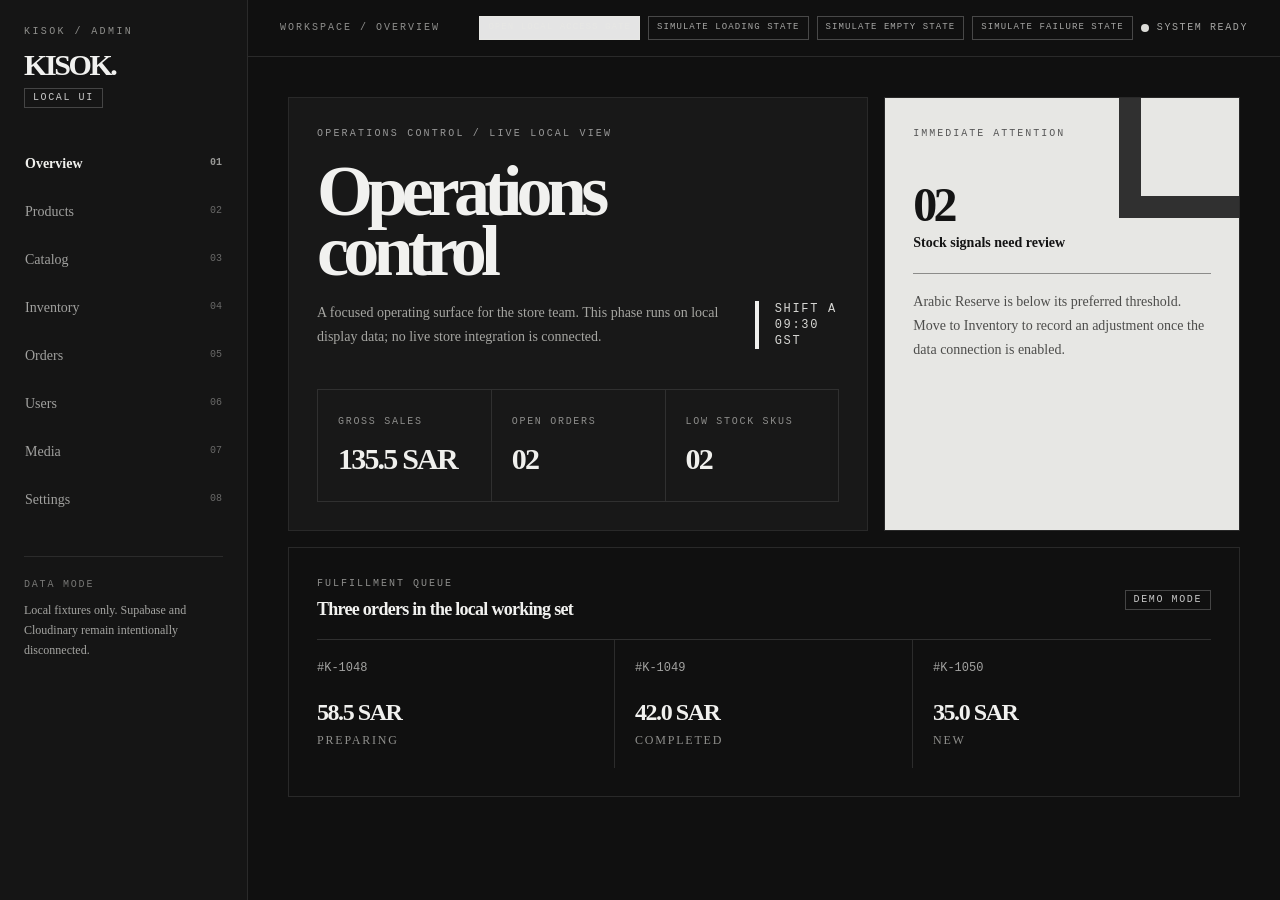
Test: KisokAdminConsole › reports local action buffers for catalog, users, and media
The width and height of the screenshot is (1280, 900).
What coordinates should you click on to do the following:
click the button "Catalog 03"
I would click on:
 (124, 260)
Its box is [24,236,223,284].
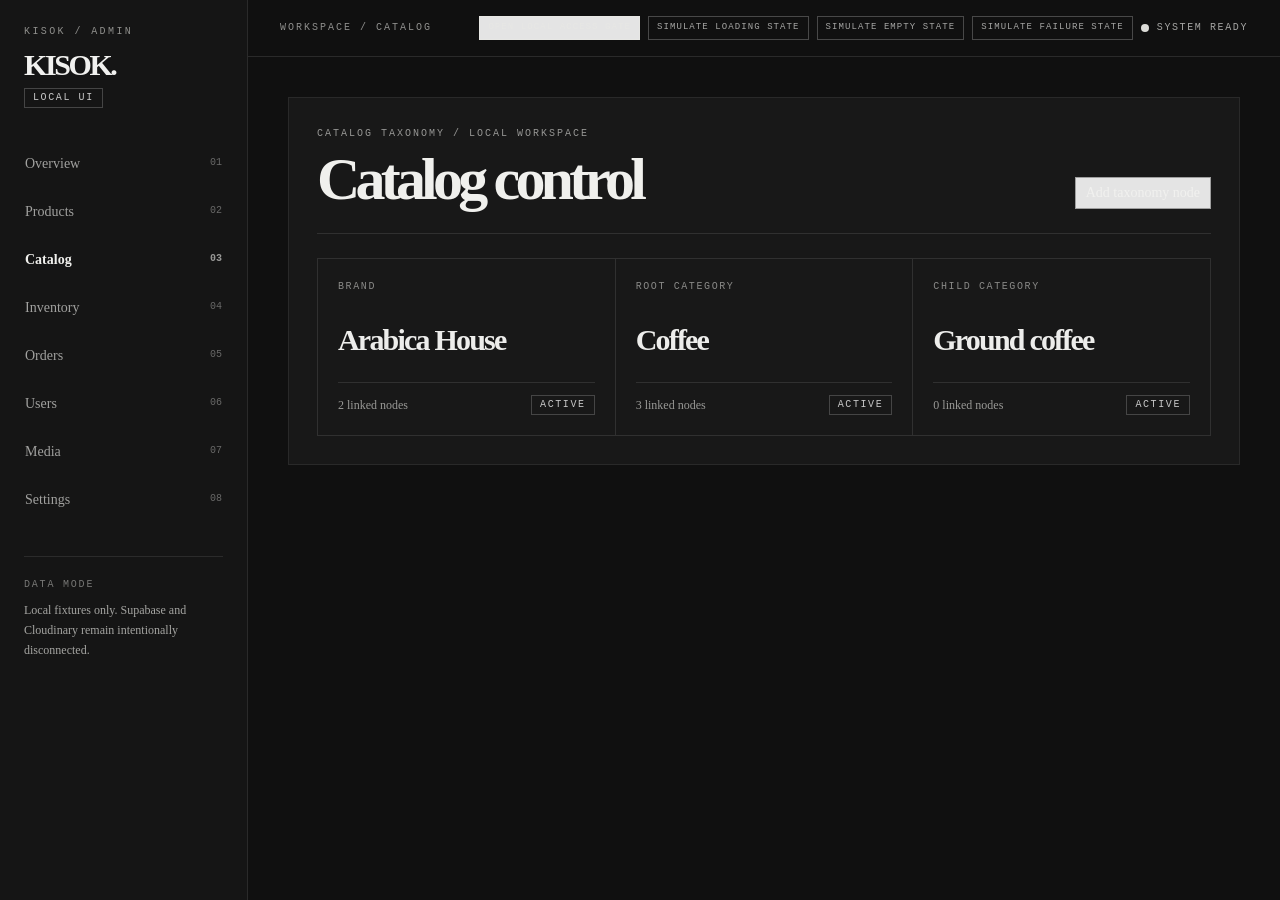
What coordinates should you click on to do the following:
click the button "Add taxonomy node"
I would click on:
 (1143, 192)
Its box is [1075,176,1211,208].
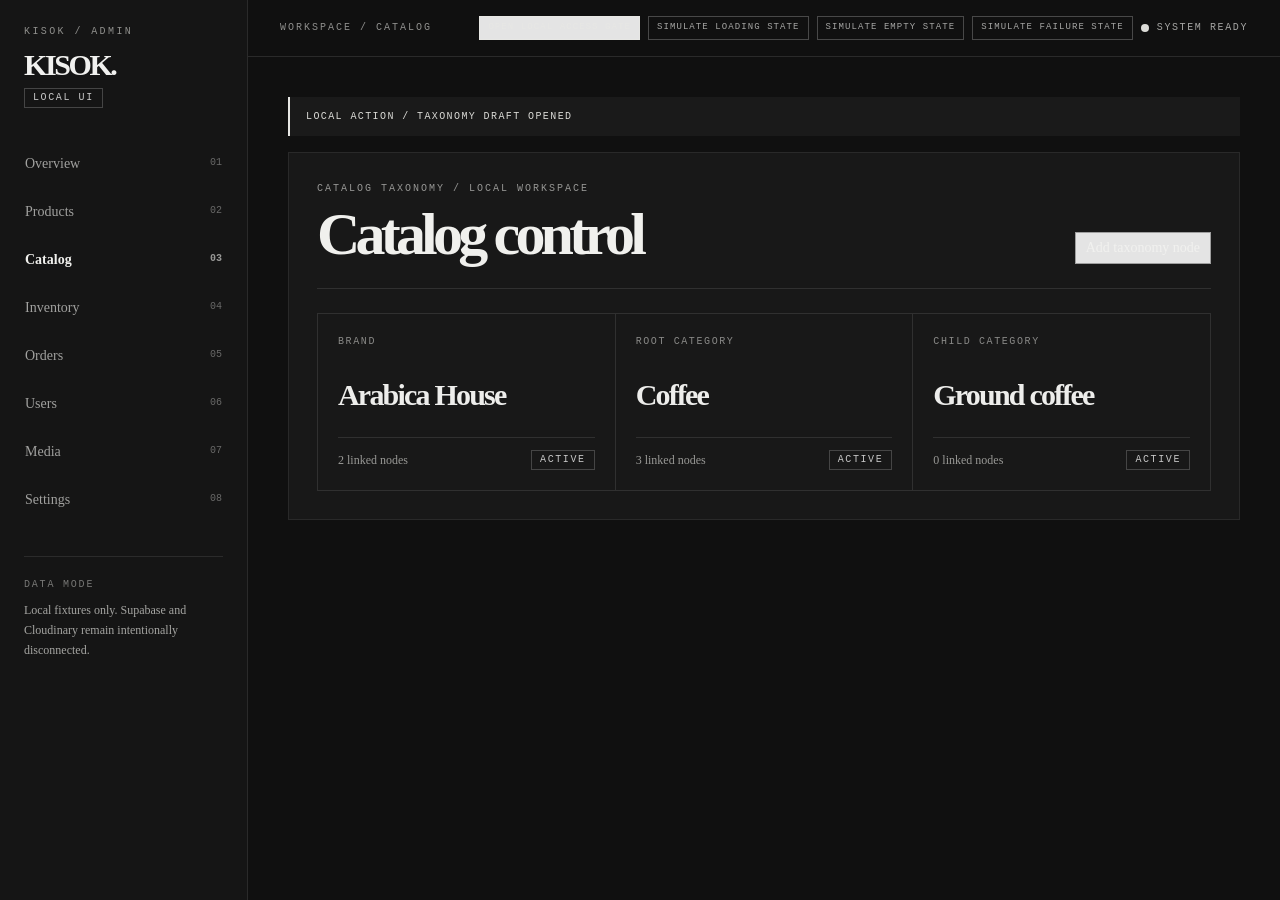
Result: the message shows "Taxonomy draft opened" at [417,110,572,122]
What coordinates should you click on to do the following:
click the button "Users 06"
I would click on:
 (124, 404)
Its box is [24,380,223,428].
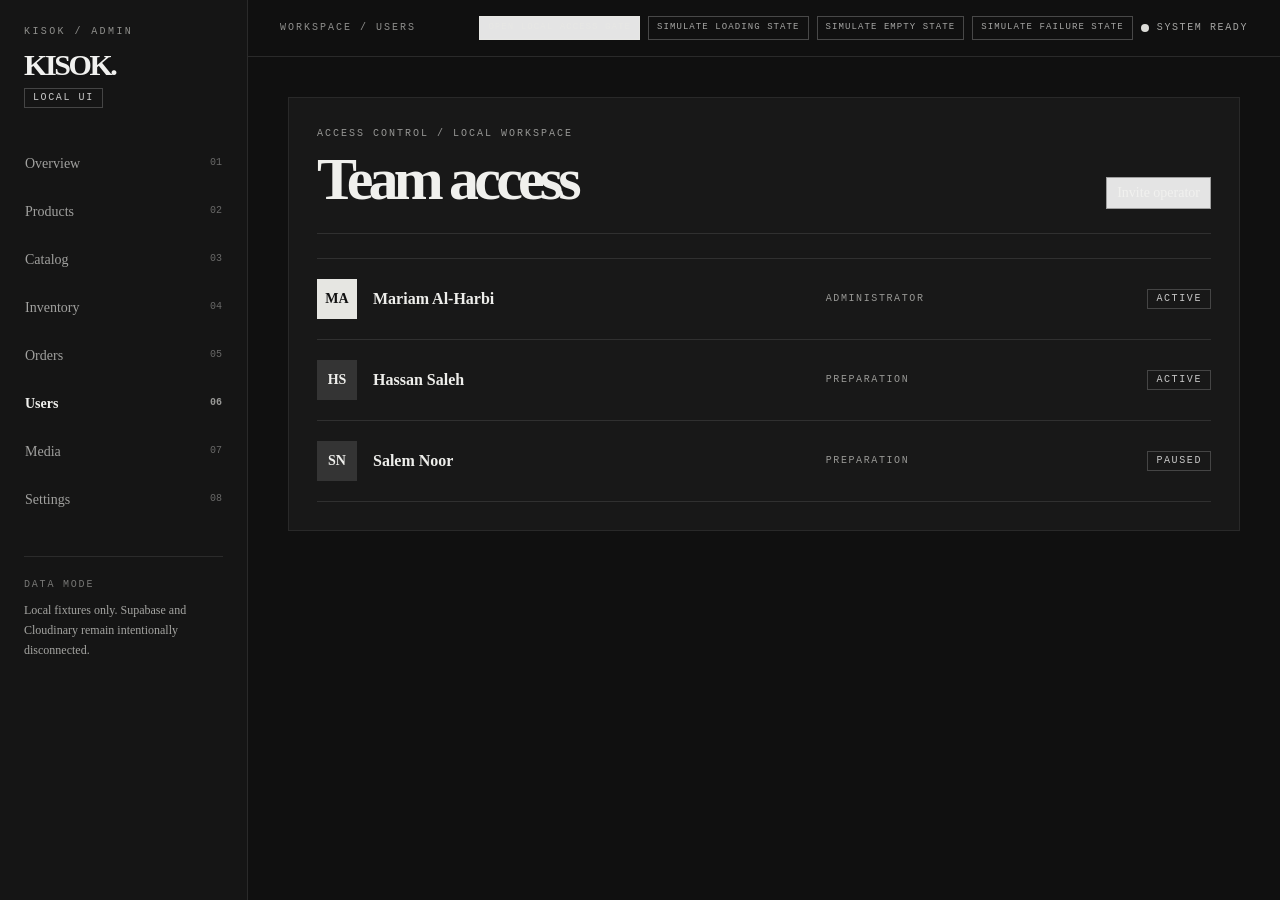
What coordinates should you click on to do the following:
click the button "Invite operator"
I would click on:
 (1159, 192)
Its box is [1106,176,1211,208].
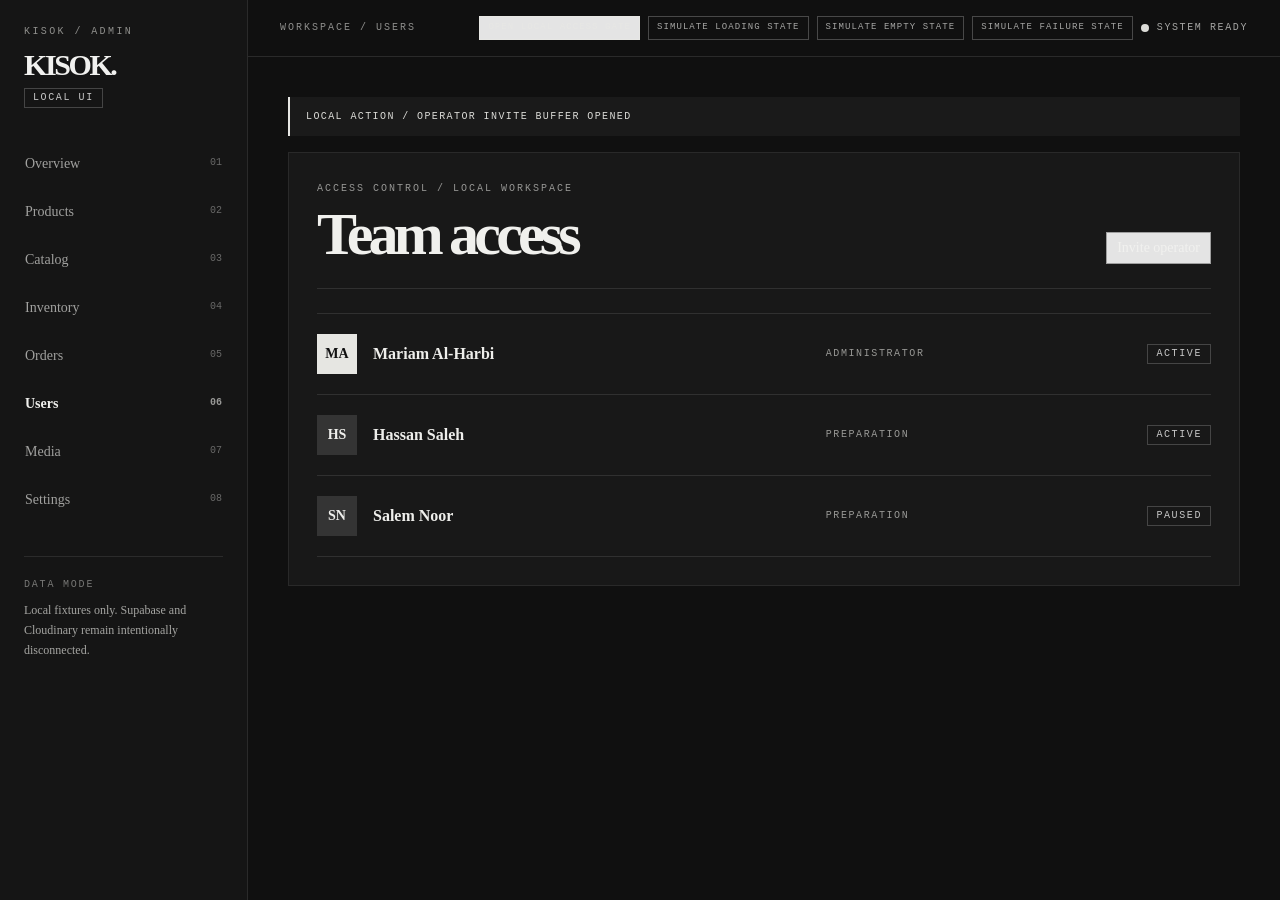
Result: the message shows "Operator invite buffer opened" at [417,110,632,122]
What coordinates should you click on to do the following:
click the button "Media 07"
I would click on:
 (124, 452)
Its box is [24,428,223,476].
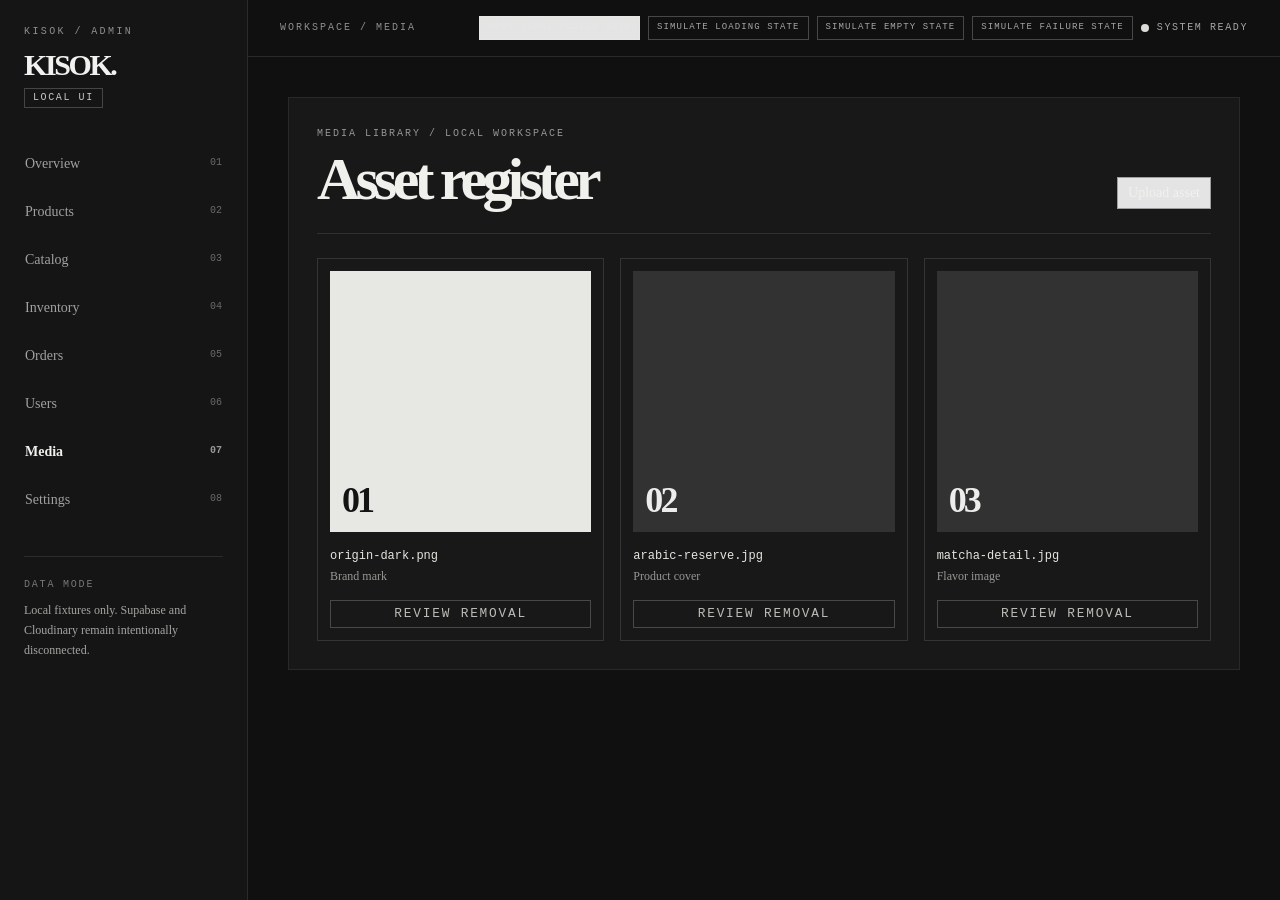
What coordinates should you click on to do the following:
click the button "Upload asset"
I would click on:
 (1164, 192)
Its box is [1117,176,1211,208].
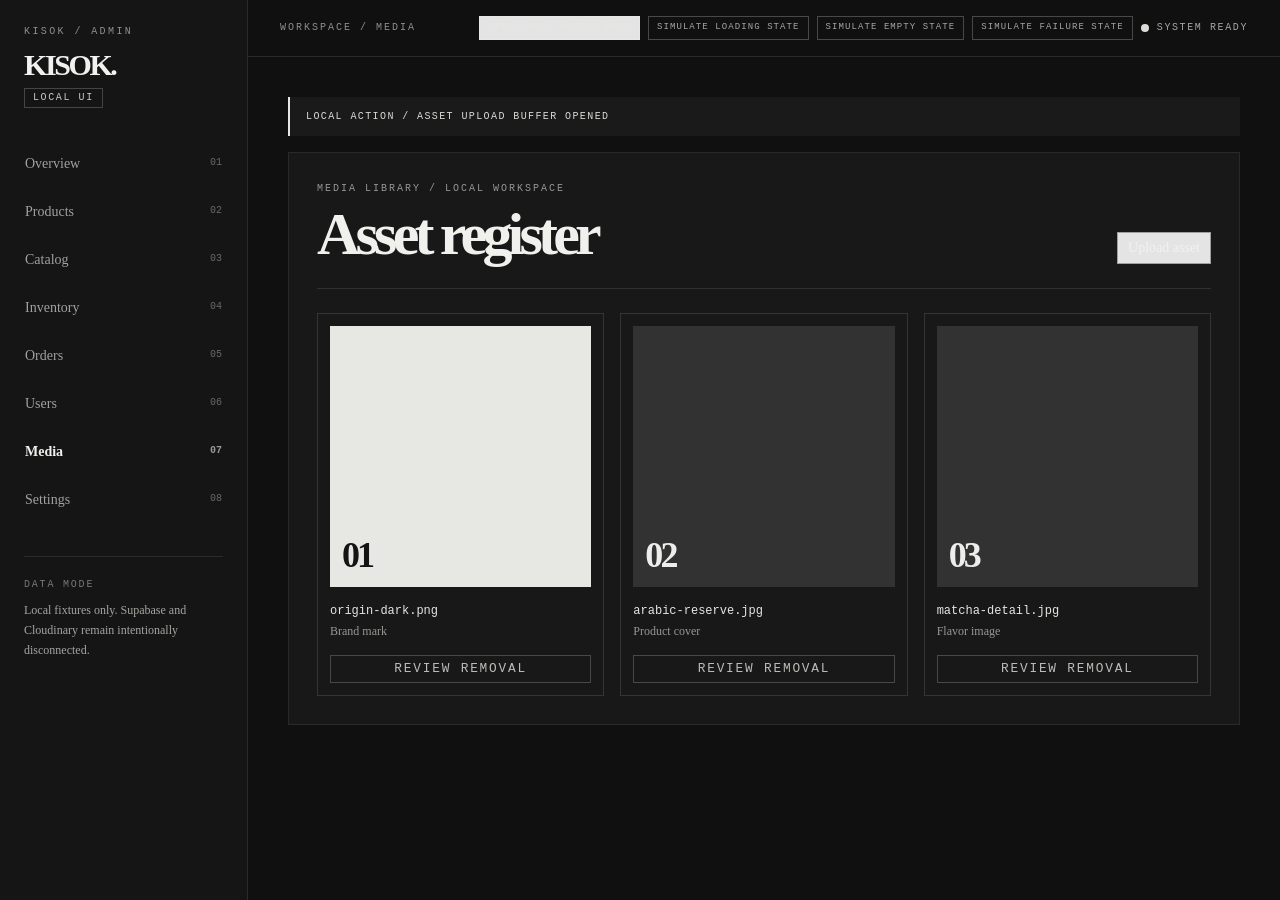
Result: the message shows "Asset upload buffer opened" at [417,110,609,122]
